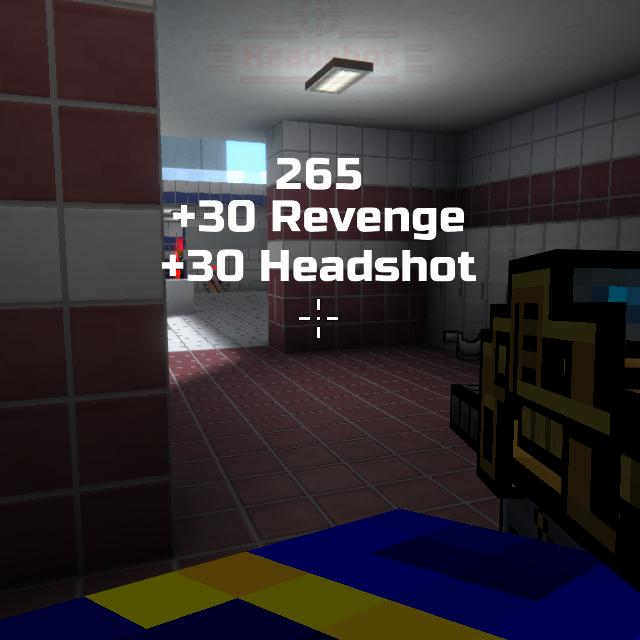Enemy: (176, 249, 184, 279)
